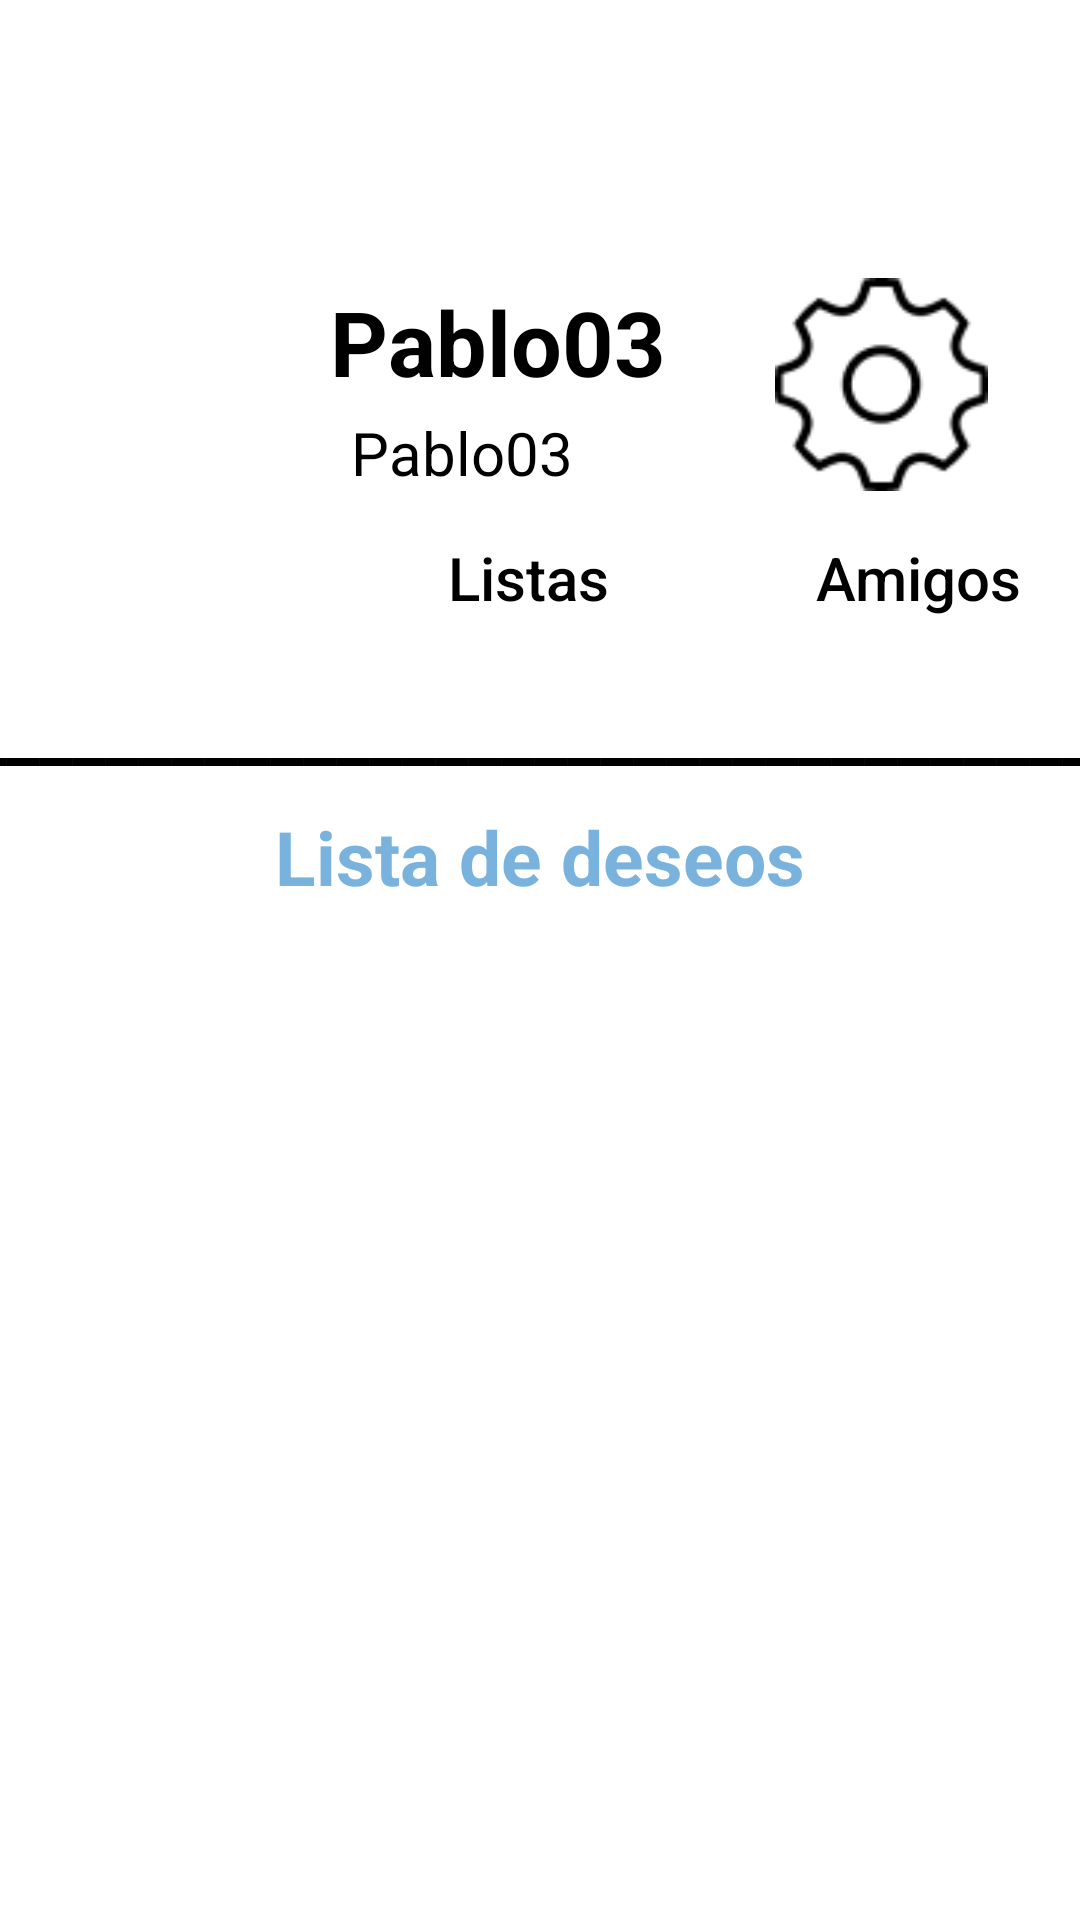

Icons on this 1080px×1920px Android screen, each with its box as (x1, y1, x2, y2):
configuration: (775, 278, 988, 491)
